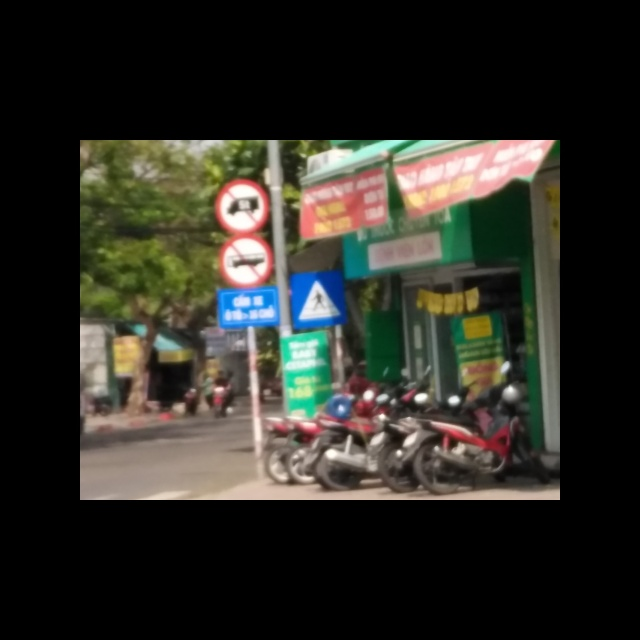Cấm xe tải: (214, 178, 270, 235)
Cấm xe xe khách: (219, 234, 271, 288)
Đường dành cho người đi bộ: (289, 269, 348, 328)
